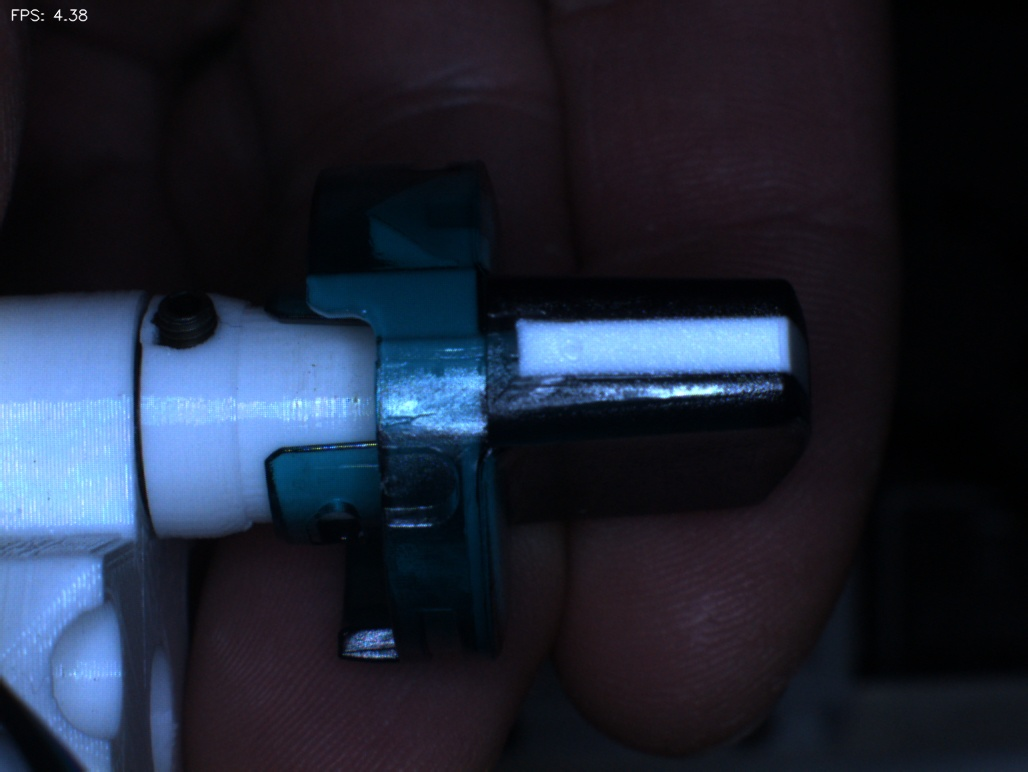DentOk: (340, 184, 417, 274)
